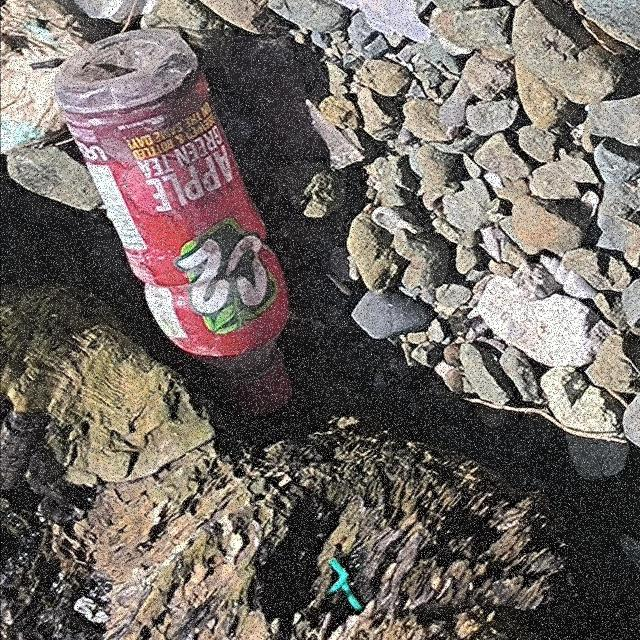plastic_waste: (53, 28, 297, 422)
